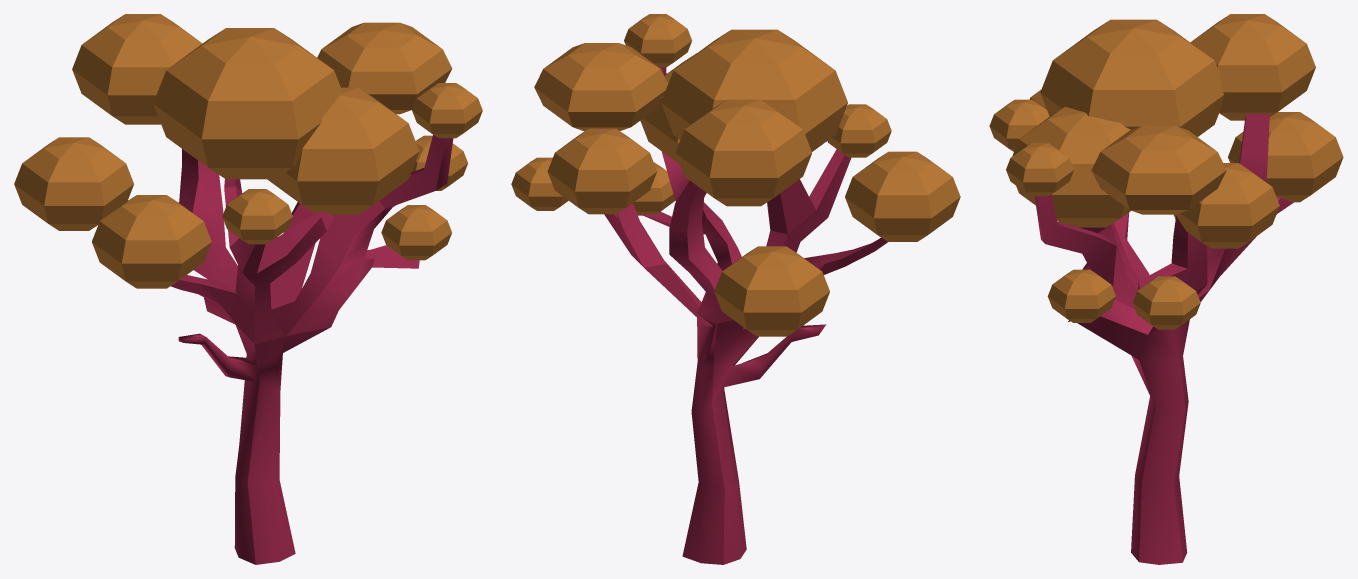
File: arbolTarde2.fbx
The picture shows the model from 3 angles, left to right: view 1: azimuth 30°, elevation 25°; view 2: azimuth 150°, elevation 25°; view 3: azimuth 270°, elevation 25°; orthographic projection. The views are drawn at different scales.
Visible parts, largest first — view 1: pCube1, Sphere.002, Sphere.003, Sphere.007, Sphere, Sphere.010, Sphere.001, Sphere.006, Sphere.008, Sphere.005, Sphere.009; view 2: pCube1, Sphere.002, Sphere.007, Sphere.001, Sphere.010, Sphere, Sphere.004, Sphere.008, Sphere.006, Sphere.009, Sphere.003, Sphere.005; view 3: pCube1, Sphere.002, Sphere.001, Sphere.007, Sphere.003, Sphere.010, Sphere.004, Sphere.009, Sphere.005, Sphere.008, Sphere.006.
Part boxes in pixels (x1,y1,x2,y2): pCube1: (171,135,453,564); Sphere.002: (153,28,343,179); Sphere.003: (267,87,419,214); Sphere.007: (72,14,202,124); Sphere: (92,195,211,288); Sphere.010: (14,137,133,230); Sphere.001: (317,22,452,114); Sphere.006: (222,189,292,244); Sphere.008: (412,83,482,138); Sphere.005: (381,205,451,260); Sphere.009: (411,135,467,190); pCube1: (597,67,887,564); Sphere.002: (661,29,847,151); Sphere.007: (675,99,811,206); Sphere.001: (534,43,667,131); Sphere.010: (714,246,829,336); Sphere: (845,151,960,241); Sphere.004: (547,128,657,214); Sphere.008: (624,14,692,67); Sphere.006: (827,104,891,157); Sphere.009: (511,157,568,210); Sphere.003: (640,53,696,164); Sphere.005: (633,162,675,215); pCube1: (1034,113,1293,564); Sphere.002: (1040,19,1224,136); Sphere.001: (1091,126,1226,214); Sphere.007: (1190,14,1315,120); Sphere.003: (1012,106,1130,227); Sphere.010: (1228,112,1343,202); Sphere.004: (1174,163,1279,248); Sphere.009: (1132,276,1200,329); Sphere.005: (1047,269,1115,322); Sphere.008: (1006,143,1073,196); Sphere.006: (989,99,1049,151).
Size of the model in its own units: 166 by 212 by 133.
